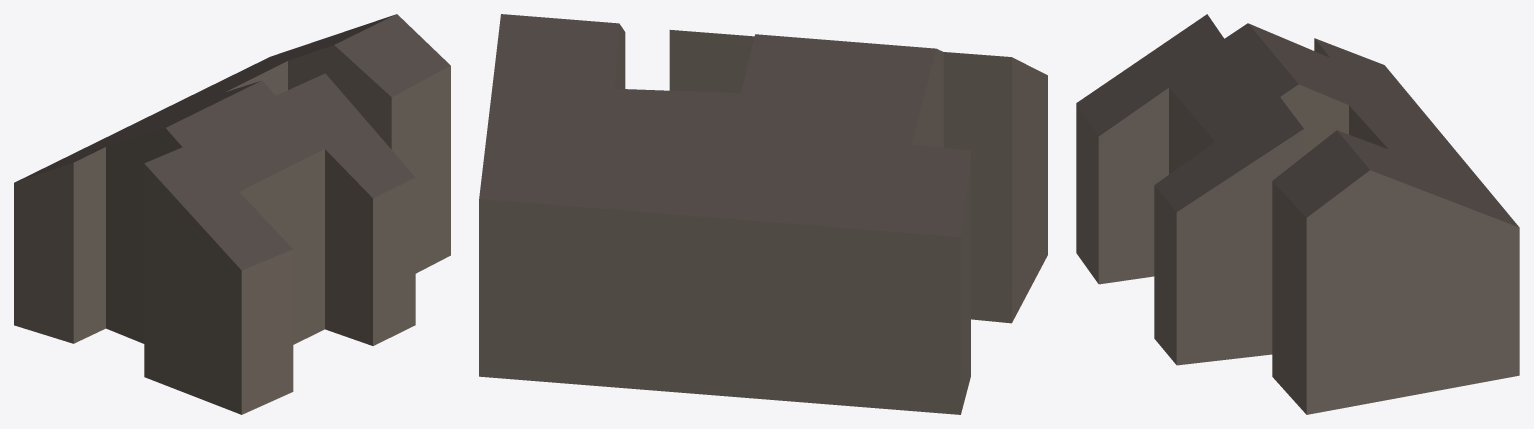
The picture shows the model from 3 angles, left to right: view 1: azimuth 30°, elevation 25°; view 2: azimuth 150°, elevation 25°; view 3: azimuth 270°, elevation 25°; orthographic projection. The views are drawn at different scales.
Visible parts, largest first — view 1: HP-w505643601; view 2: HP-w505643601; view 3: HP-w505643601.
Part boxes in pixels (bbox=[...]): HP-w505643601: bbox=[14, 14, 450, 414]; HP-w505643601: bbox=[479, 14, 1047, 414]; HP-w505643601: bbox=[1076, 14, 1519, 414].
Size of the model in its own units: 26.36 by 14.19 by 24.46.
